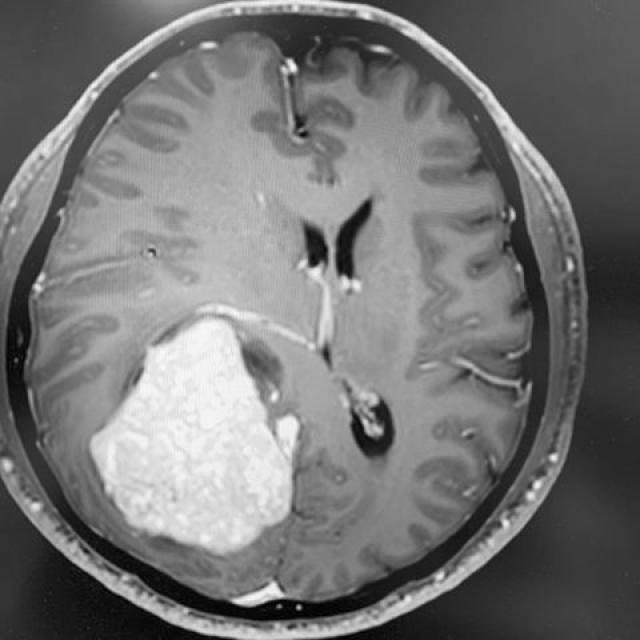meningioma: (87, 320, 292, 559)
